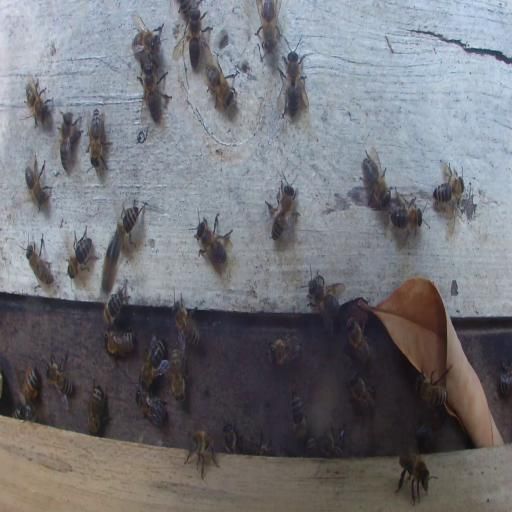nonpollenbee: (277, 32, 310, 122), (188, 210, 234, 272), (263, 168, 299, 244), (304, 267, 342, 336), (138, 63, 172, 123), (396, 451, 434, 504), (390, 185, 424, 244), (184, 426, 220, 478), (361, 147, 391, 209), (86, 104, 110, 178), (204, 58, 236, 110), (54, 111, 82, 170), (24, 154, 52, 213), (172, 292, 200, 350), (24, 75, 53, 128), (101, 225, 123, 293), (46, 353, 74, 406), (395, 277, 434, 314), (130, 13, 162, 58), (433, 162, 465, 206), (67, 226, 94, 278), (26, 237, 53, 286), (266, 331, 303, 365), (345, 316, 371, 364), (139, 340, 166, 386), (135, 389, 167, 427), (103, 281, 128, 327), (187, 8, 206, 68), (348, 372, 376, 412), (120, 204, 146, 247), (287, 391, 308, 440), (418, 376, 448, 410), (104, 327, 136, 358), (257, 0, 279, 45), (170, 345, 185, 402), (88, 382, 104, 435), (320, 427, 345, 458), (222, 422, 238, 454), (415, 424, 432, 450), (500, 360, 511, 397), (14, 404, 34, 420), (305, 436, 319, 457)
pollenbee: (20, 363, 40, 406)
